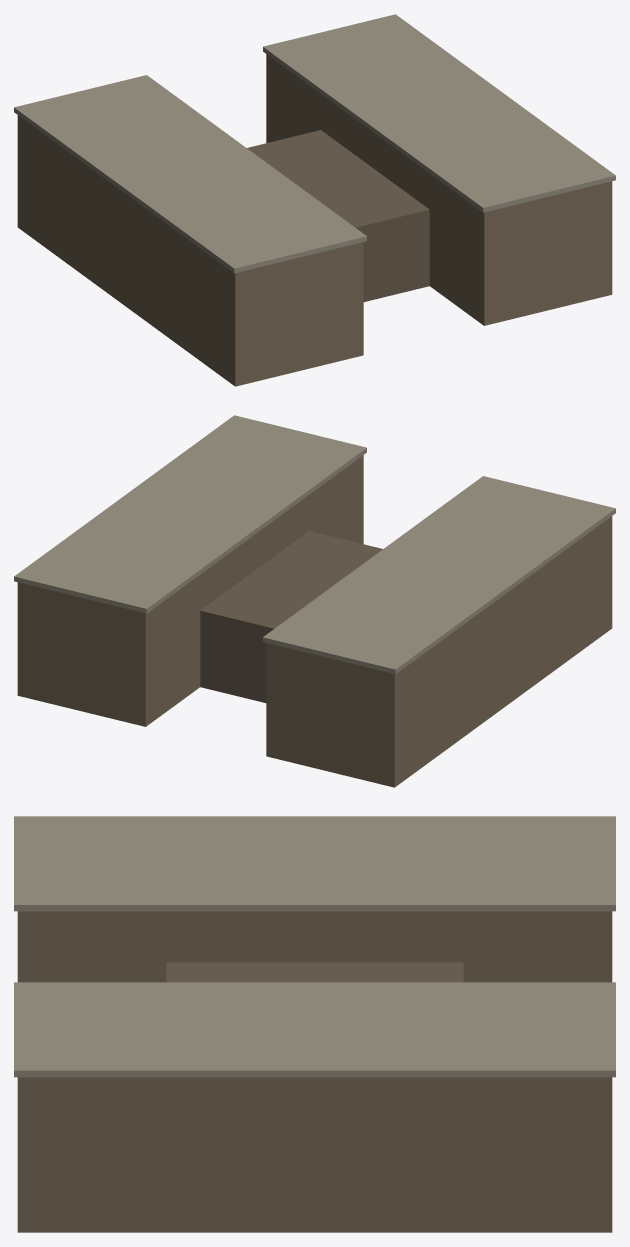
Rendered from zoo-a03215.glb.
The picture shows the model from 3 angles, top to bottom: view 1: azimuth 30°, elevation 25°; view 2: azimuth 150°, elevation 25°; view 3: azimuth 270°, elevation 25°; orthographic projection. The views are drawn at different scales.
Parts seen in each view (by area): view 1: zoo_a03215; view 2: zoo_a03215; view 3: zoo_a03215.
Part boxes in pixels (x1,y1,x2,y2): zoo_a03215: [14, 14, 615, 386]; zoo_a03215: [14, 415, 615, 787]; zoo_a03215: [14, 816, 615, 1232].
Bounding box in the file's own units: 16.7 × 5 × 16.7.
